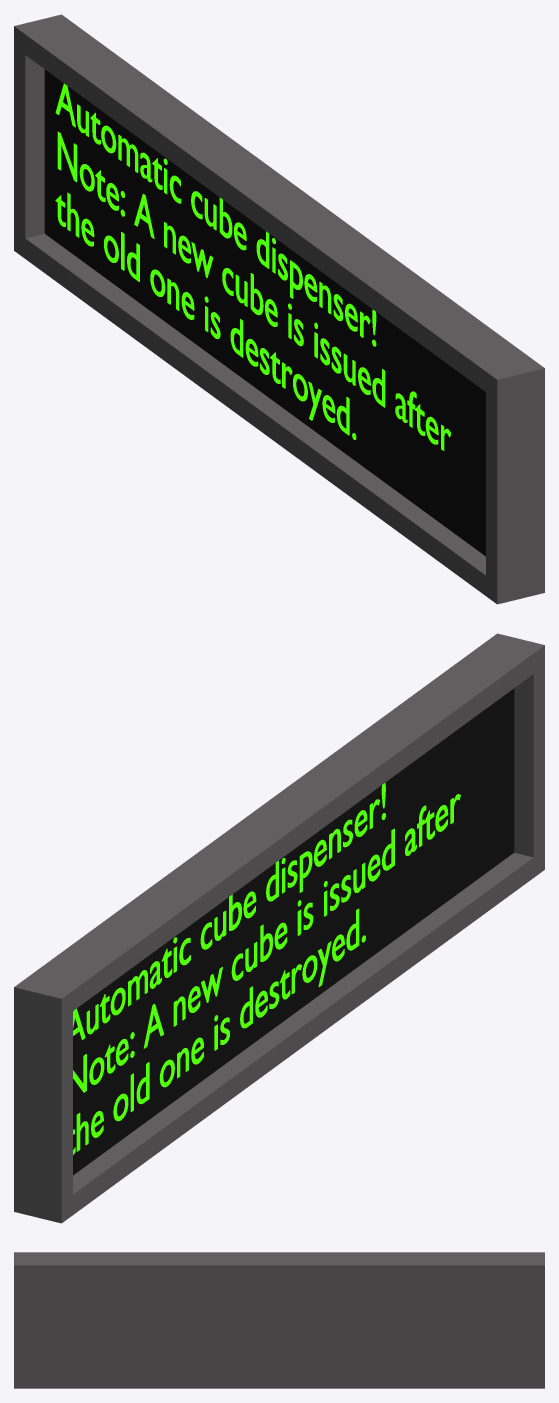
File: board1.fbx
The picture shows the model from 3 angles, top to bottom: view 1: azimuth 30°, elevation 25°; view 2: azimuth 150°, elevation 25°; view 3: azimuth 270°, elevation 25°; orthographic projection. The views are drawn at different scales.
Parts seen in each view (by area): view 1: Cube.001; view 2: Cube.001; view 3: Cube.001.
Boxes of the visible parts, left/top/right/bottom form: Cube.001: left=14, top=14, right=544, bottom=604; Cube.001: left=14, top=633, right=544, bottom=1223; Cube.001: left=14, top=1252, right=544, bottom=1388.
Size of the model in its own units: 81.54 by 367 by 1431.
